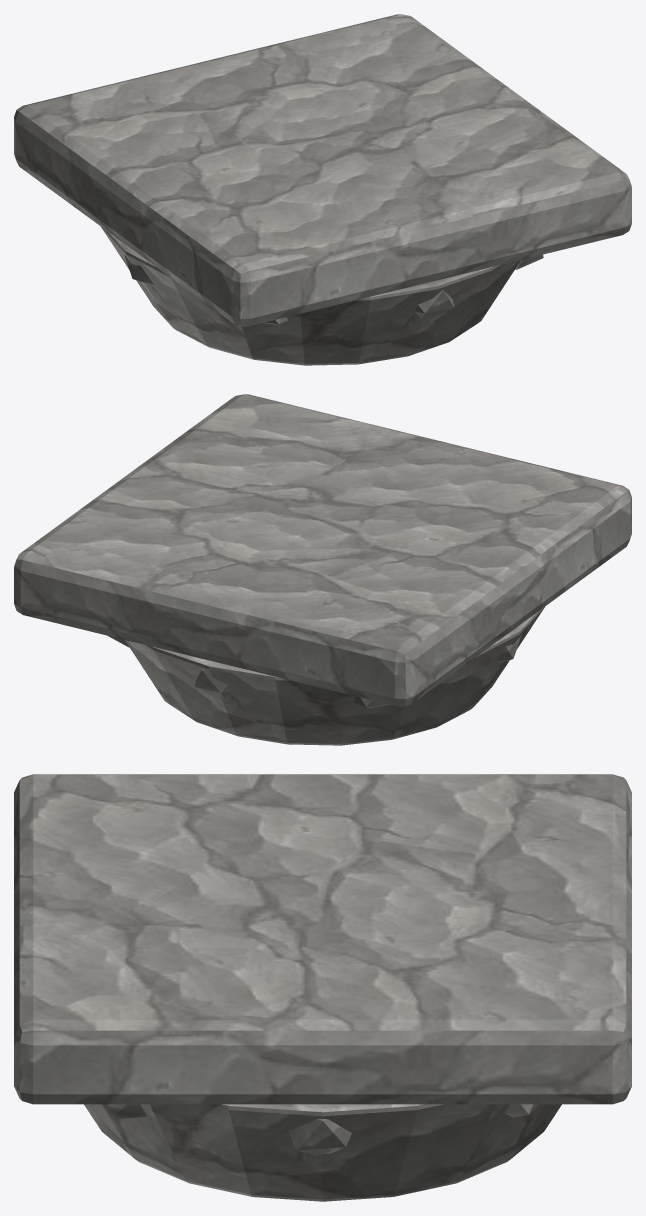
Rendered from column_capital__copper_ingot.glb.
3 views of the same model, one above another, from view 1: azimuth 30°, elevation 25°; view 2: azimuth 150°, elevation 25°; view 3: azimuth 270°, elevation 25° (orthographic). The views are drawn at different scales.
Parts seen in each view (by area): view 1: model; view 2: model; view 3: model.
Part boxes in pixels (bbox=[...]): model: bbox=[14, 14, 631, 365]; model: bbox=[14, 394, 631, 745]; model: bbox=[14, 774, 631, 1201].
Size of the model in its own units: 0.8 by 0.3 by 0.8.
2 materials, 2 textured.
